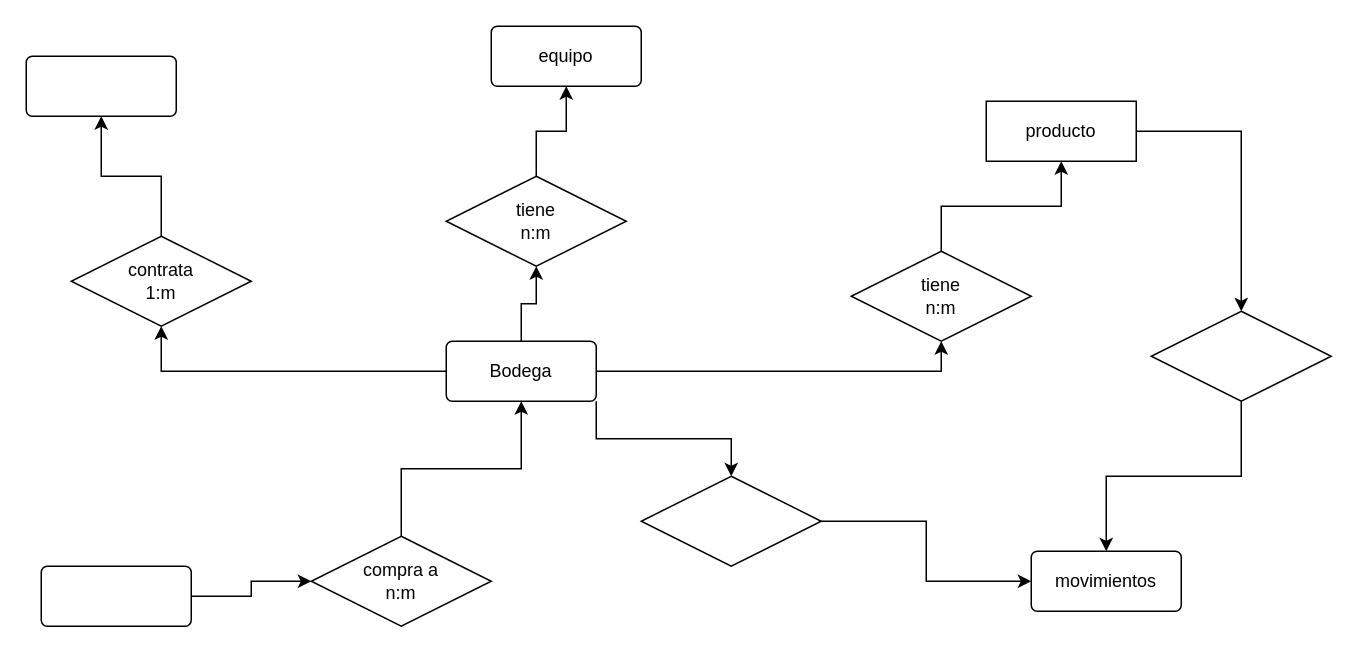
This 1358x653 diagram has some shape labels left out. Each missing label, with the centre of its shape:
"mantiene 1:m" belongs at point (730, 520).
"personal" belongs at point (100, 85).
"proveedor" belongs at point (115, 595).
"se asocia n:m" belongs at point (1240, 355).
